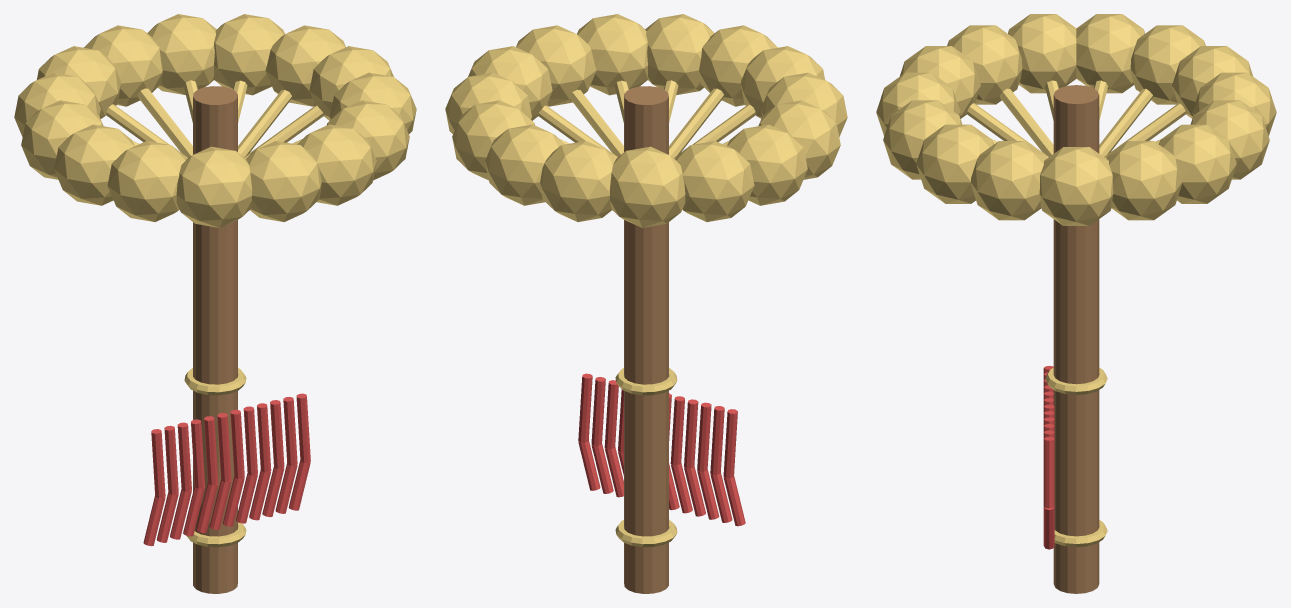
Rendered from buyo_folk_suzu.glb.
3 renders of one model, left to right at view 1: azimuth 30°, elevation 25°; view 2: azimuth 150°, elevation 25°; view 3: azimuth 270°, elevation 25°, orthographic.
Visible parts, largest first — view 1: Hand dance ringing bell shaft, Suzu individual ceremonial bell.010, Suzu individual ceremonial bell.011, Suzu individual ceremonial bell.009, Suzu individual ceremonial bell.008, Suzu individual ceremonial bell.012, Suzu individual ceremonial bell.002, Suzu individual ceremonial bell.003, Suzu individual ceremonial bell.001, Suzu individual ceremonial bell.004, Suzu individual ceremonial bell.007, Suzu individual ceremonial bell.013 (+34 smaller); view 2: Hand dance ringing bell shaft, Suzu individual ceremonial bell.005, Suzu individual ceremonial bell.004, Suzu individual ceremonial bell.006, Suzu individual ceremonial bell.007, Suzu individual ceremonial bell.003, Suzu individual ceremonial bell.013, Suzu individual ceremonial bell.012, Suzu individual ceremonial bell.014, Suzu individual ceremonial bell.011, Suzu individual ceremonial bell.008, Suzu individual ceremonial bell.002 (+26 smaller); view 3: Hand dance ringing bell shaft, Suzu individual ceremonial bell, Suzu individual ceremonial bell.001, Suzu individual ceremonial bell.014, Suzu individual ceremonial bell.002, Suzu individual ceremonial bell.013, Suzu individual ceremonial bell.007, Suzu individual ceremonial bell.008, Suzu individual ceremonial bell.006, Suzu individual ceremonial bell.009, Suzu individual ceremonial bell.003, Suzu individual ceremonial bell.012 (+11 smaller).
Boxes of the visible parts, <box> form: Hand dance ringing bell shaft: <box>193,86,237,593</box>; Suzu individual ceremonial bell.010: <box>176,146,252,227</box>; Suzu individual ceremonial bell.011: <box>246,141,321,221</box>; Suzu individual ceremonial bell.009: <box>107,141,186,221</box>; Suzu individual ceremonial bell.008: <box>54,124,134,205</box>; Suzu individual ceremonial bell.012: <box>297,124,376,205</box>; Suzu individual ceremonial bell.002: <box>213,14,284,95</box>; Suzu individual ceremonial bell.003: <box>147,14,216,95</box>; Suzu individual ceremonial bell.001: <box>265,25,345,106</box>; Suzu individual ceremonial bell.004: <box>84,25,162,106</box>; Suzu individual ceremonial bell.007: <box>21,100,103,179</box>; Suzu individual ceremonial bell.013: <box>326,100,409,180</box>; Hand dance ringing bell shaft: <box>624,86,668,593</box>; Suzu individual ceremonial bell.005: <box>609,146,685,227</box>; Suzu individual ceremonial bell.004: <box>540,141,615,221</box>; Suzu individual ceremonial bell.006: <box>675,141,754,221</box>; Suzu individual ceremonial bell.007: <box>727,124,807,205</box>; Suzu individual ceremonial bell.003: <box>485,124,564,205</box>; Suzu individual ceremonial bell.013: <box>577,14,648,95</box>; Suzu individual ceremonial bell.012: <box>645,14,714,95</box>; Suzu individual ceremonial bell.014: <box>516,25,596,106</box>; Suzu individual ceremonial bell.011: <box>699,25,777,106</box>; Suzu individual ceremonial bell.008: <box>758,100,840,179</box>; Suzu individual ceremonial bell.002: <box>452,100,535,180</box>; Hand dance ringing bell shaft: <box>1053,85,1099,593</box>; Suzu individual ceremonial bell: <box>1039,147,1113,225</box>; Suzu individual ceremonial bell.001: <box>1106,141,1181,220</box>; Suzu individual ceremonial bell.014: <box>971,141,1046,220</box>; Suzu individual ceremonial bell.002: <box>1159,124,1236,203</box>; Suzu individual ceremonial bell.013: <box>916,124,993,203</box>; Suzu individual ceremonial bell.007: <box>1076,14,1144,93</box>; Suzu individual ceremonial bell.008: <box>1008,14,1076,93</box>; Suzu individual ceremonial bell.006: <box>1130,25,1205,104</box>; Suzu individual ceremonial bell.009: <box>947,25,1022,104</box>; Suzu individual ceremonial bell.003: <box>1190,100,1269,179</box>; Suzu individual ceremonial bell.012: <box>883,100,962,179</box>.
Bounding box in the file's own units: 1.41 × 1.95 × 1.41.
